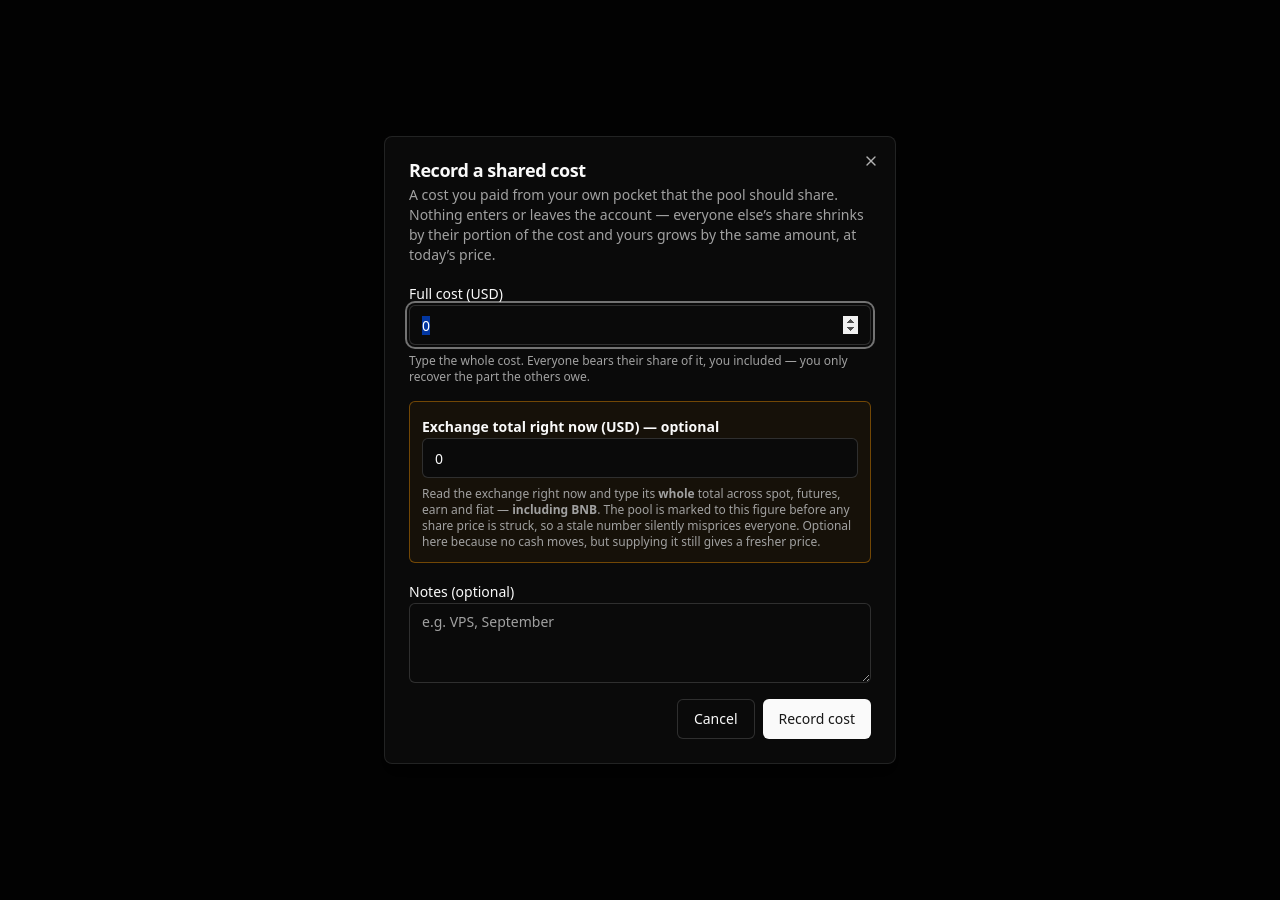
Test: a guard rejection lands inline, next to the form › cost reimbursement
Replace the text in the number field with test id "cost-amount-input" with "25" at {"x": 640, "y": 325}, box [409,305,871,345]
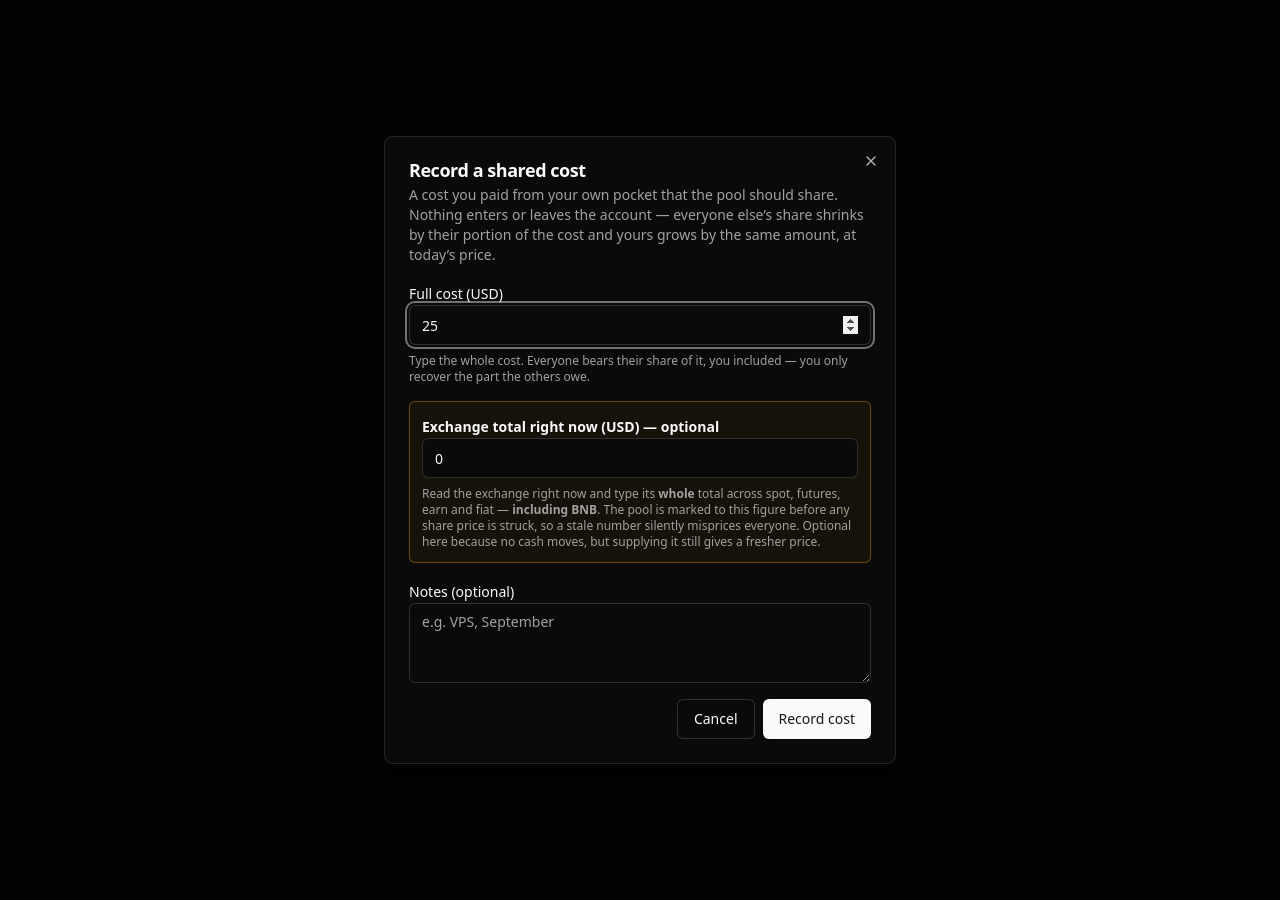
Click the button with test id "cost-submit-button" at {"x": 817, "y": 719}, box [762,699,871,739]
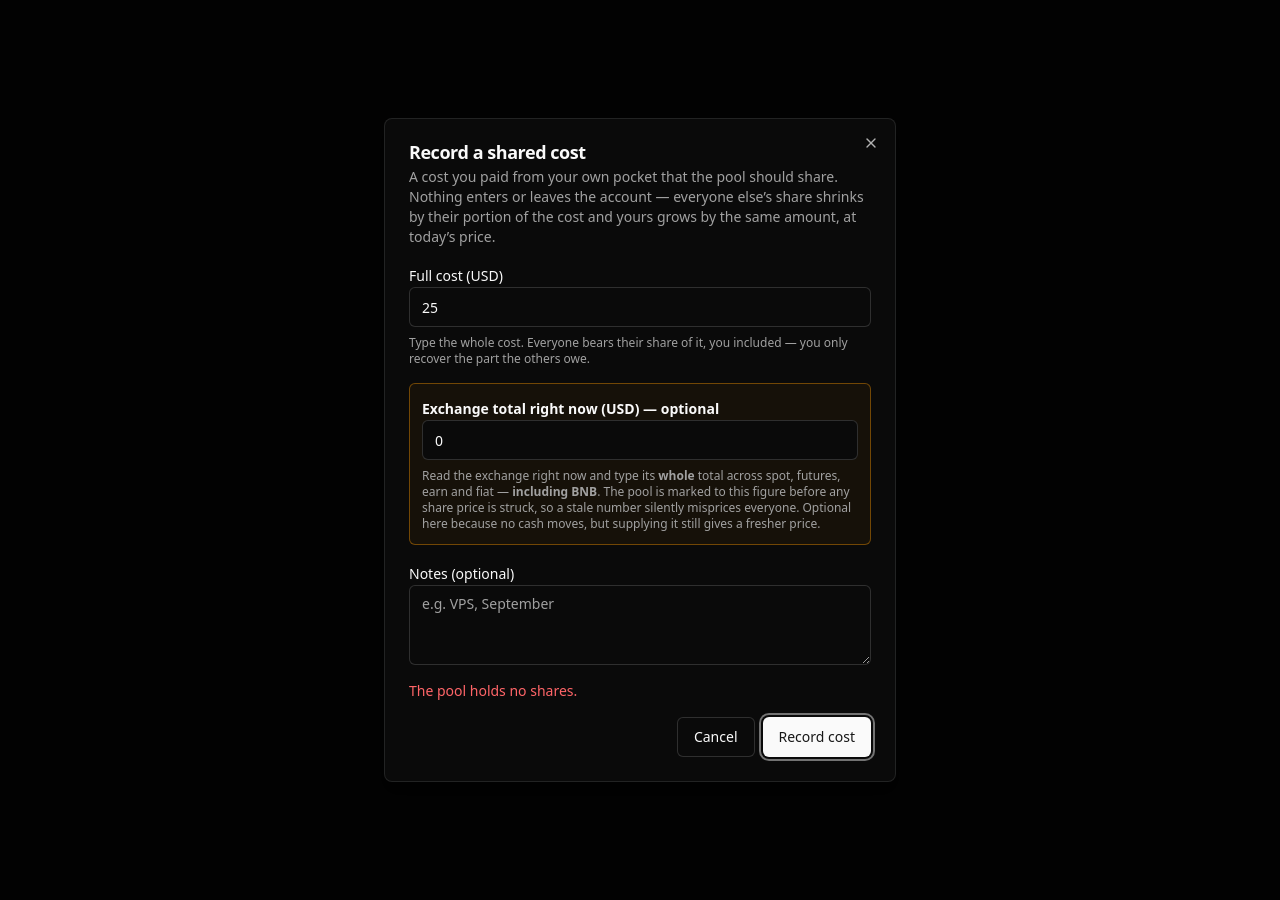
expect the message with test id "cost-reimbursement-error" reads "The pool holds no shares.": met, box [409,681,577,700]
